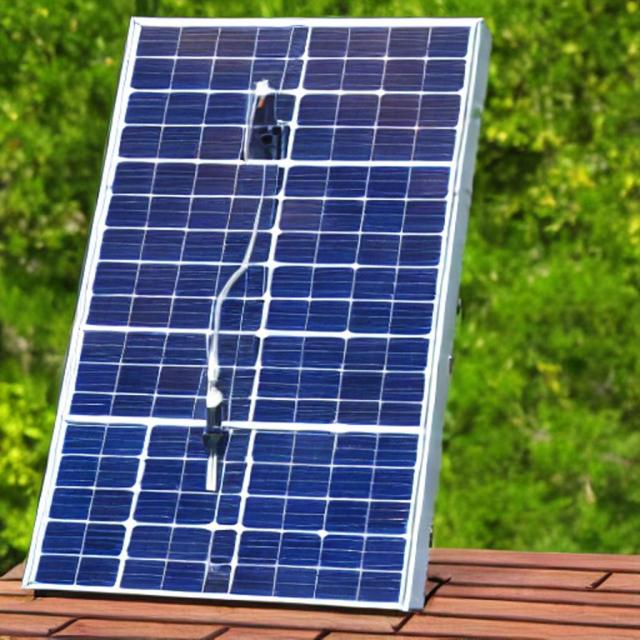no faulty: (39, 17, 466, 598)
